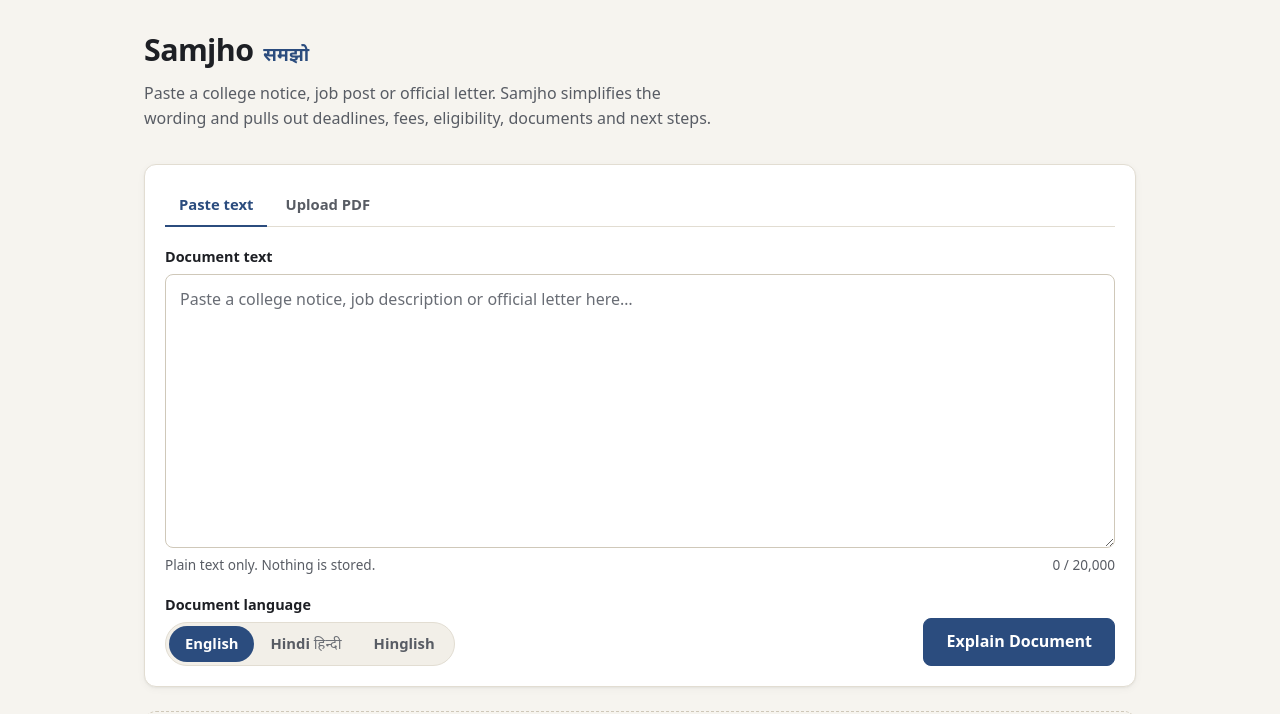
it: errors › shows validation messages from the backend
Click the text box labelled "Document text" at {"x": 640, "y": 410}, box x1=165 y1=274 x2=1115 y2=548
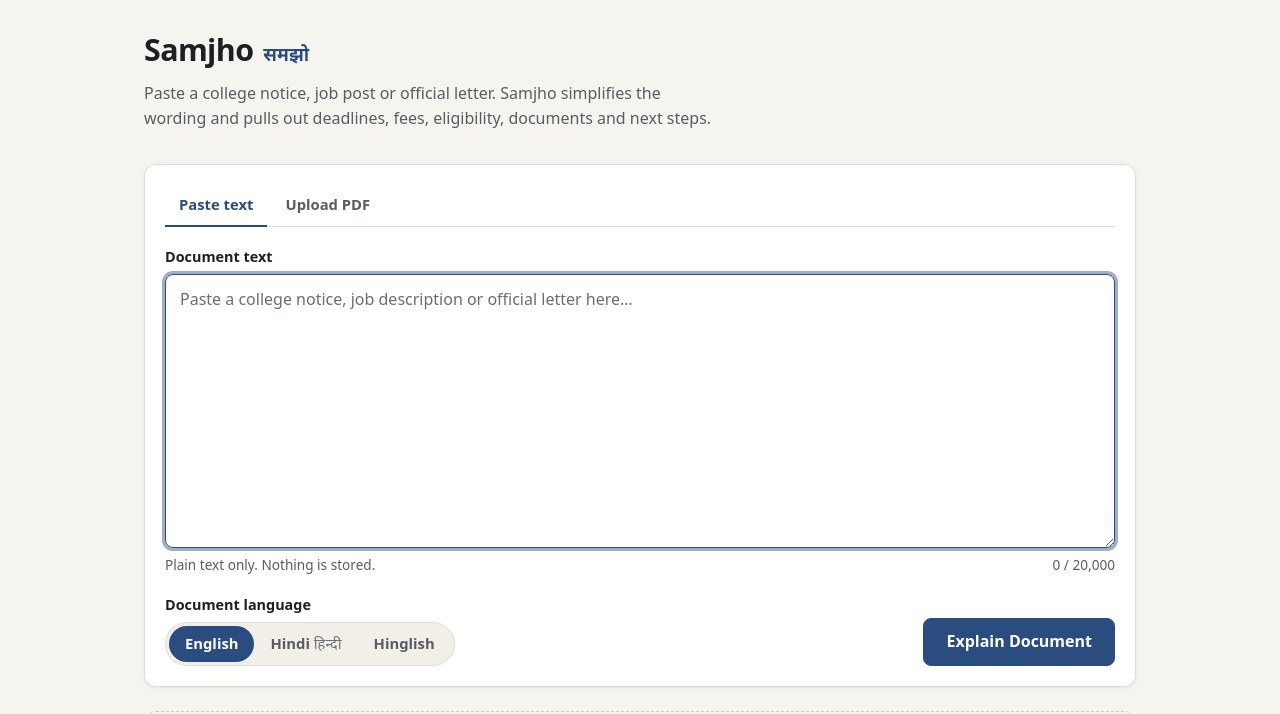
Type keys "Students with at least 60% marks must submit their resume by 15 November 2026. The application fee is ₹500. The library opens at 9 AM."
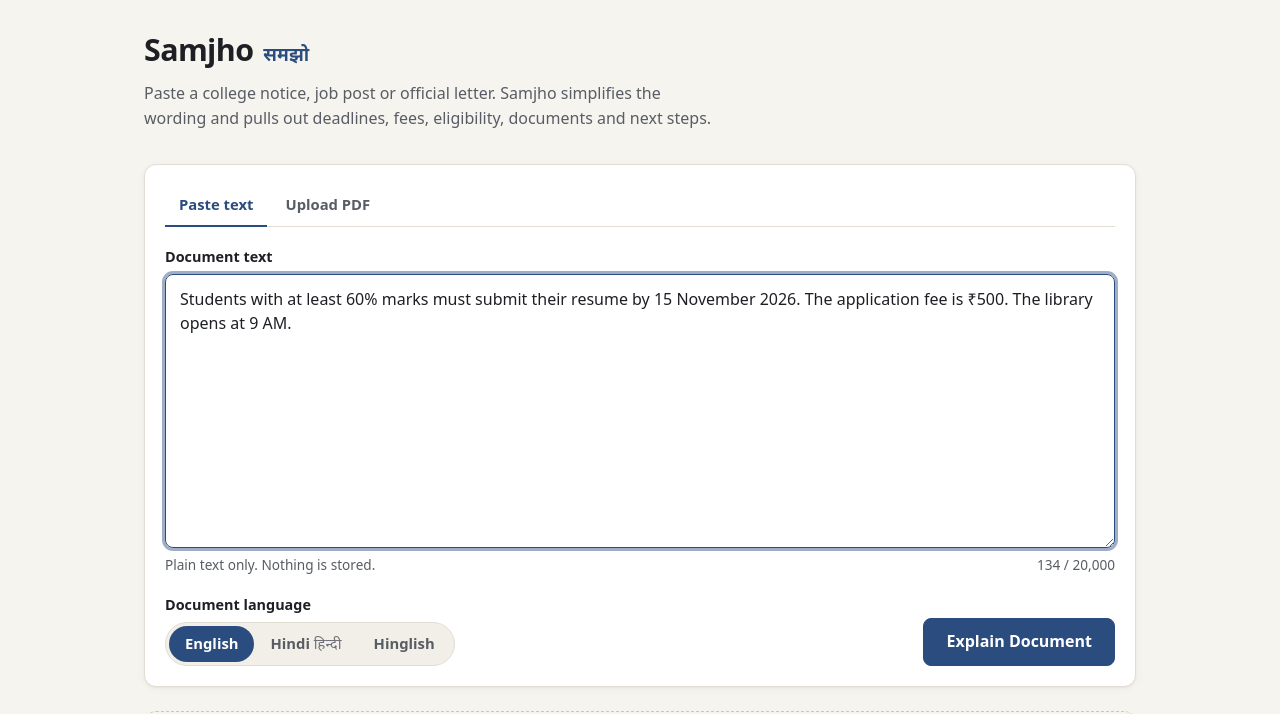
Click the button "Explain Document" at {"x": 1019, "y": 642}, box x1=924 y1=618 x2=1115 y2=666
(page scrolled)
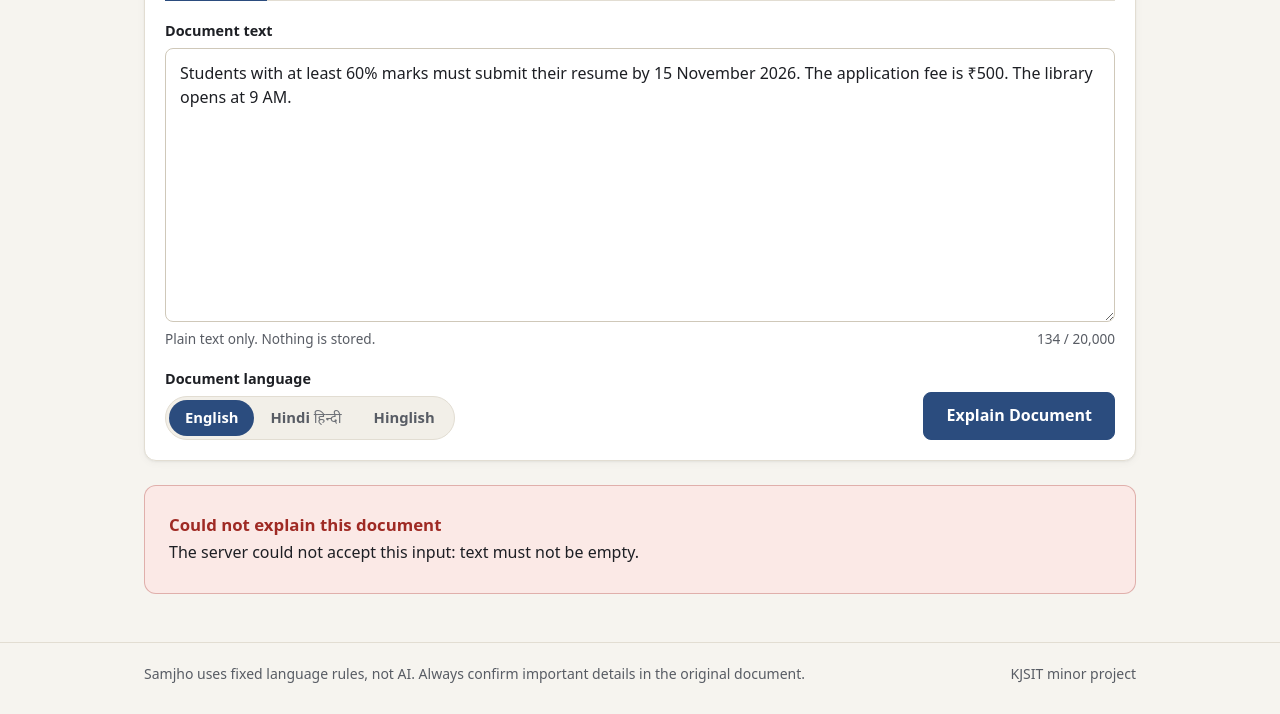
Expected: the message shows "The server could not accept this input: text must not be empty.", x1=169 y1=541 x2=639 y2=563
